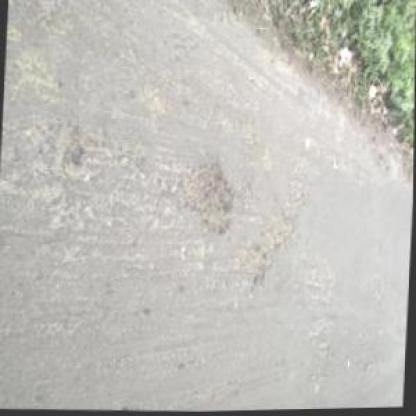pothole: (176, 158, 241, 240), (245, 212, 297, 286), (58, 130, 85, 166)
